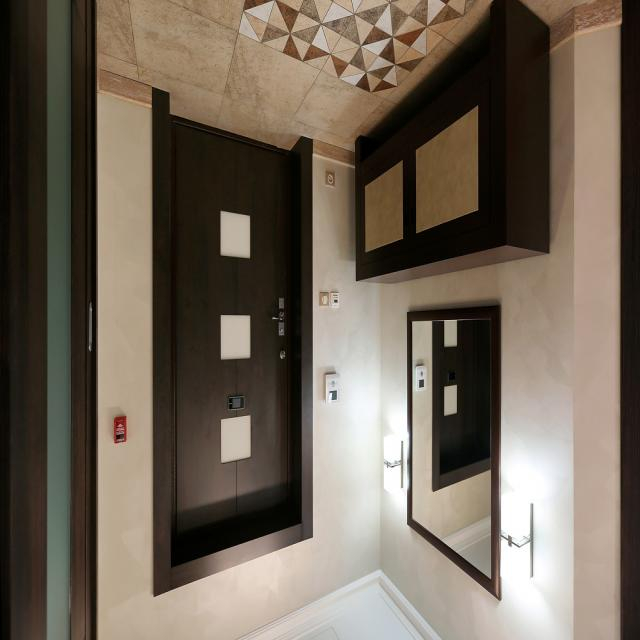close: (166, 128, 302, 546)
